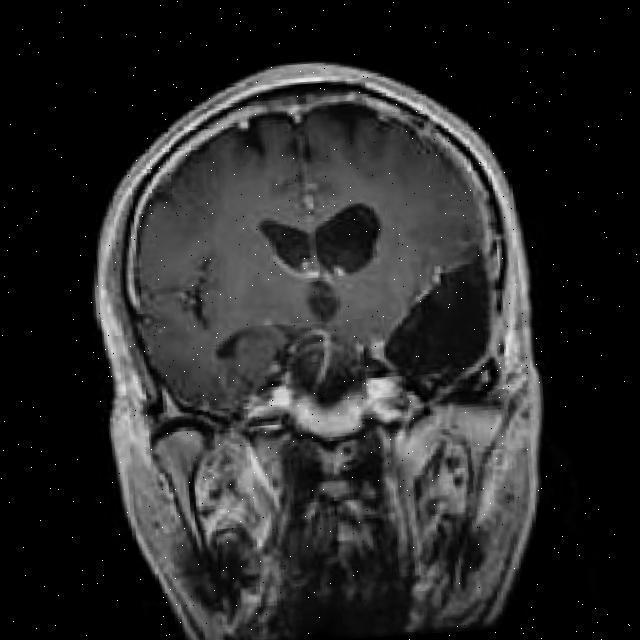EMCI: (368, 252, 562, 438)
